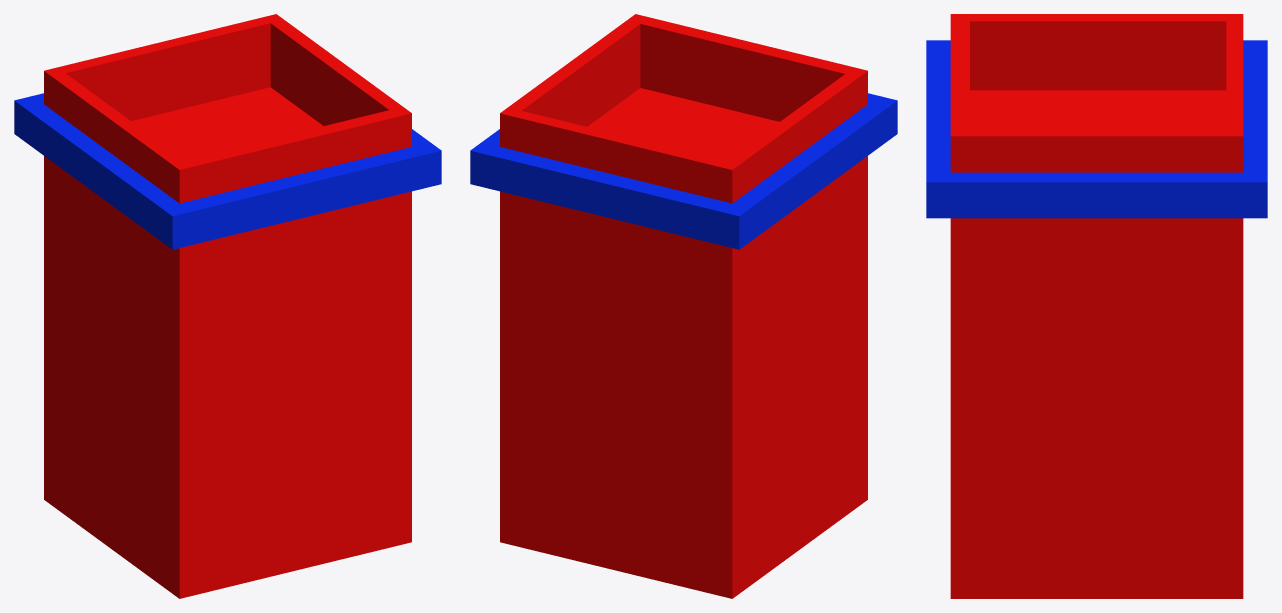
File: Tower001.fbx
3 views of the same model, side by side, from view 1: azimuth 30°, elevation 25°; view 2: azimuth 150°, elevation 25°; view 3: azimuth 270°, elevation 25° (orthographic). The views are drawn at different scales.
Visible parts, largest first — view 1: Tower001; view 2: Tower001; view 3: Tower001.
Boxes of the visible parts, x1,y1,x2,y2 form: Tower001: [14, 14, 441, 598]; Tower001: [470, 14, 897, 598]; Tower001: [926, 14, 1267, 598].
Bounding box in the file's own units: 314 × 478 × 320.
